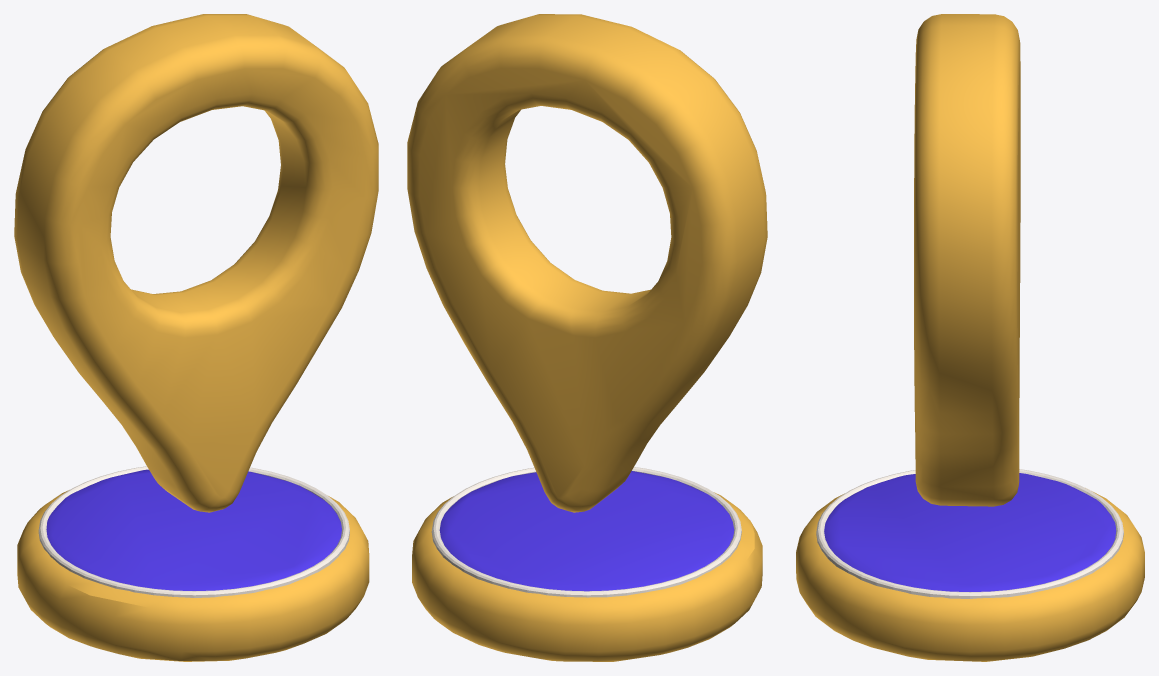
Rendered from HERE_4.glb.
3 views of the same model, side by side, from view 1: azimuth 30°, elevation 25°; view 2: azimuth 150°, elevation 25°; view 3: azimuth 270°, elevation 25° (orthographic).
Visible parts, largest first — view 1: POINT, BASE 3, BASE1, BASE 2; view 2: POINT, BASE 3, BASE1, BASE 2; view 3: POINT, BASE 3, BASE1, BASE 2.
Part boxes in pixels (bbox=[...]): POINT: bbox=[14, 14, 378, 512]; BASE 3: bbox=[46, 469, 341, 590]; BASE1: bbox=[17, 490, 369, 661]; BASE 2: bbox=[38, 466, 349, 597]; POINT: bbox=[407, 14, 767, 512]; BASE 3: bbox=[439, 471, 734, 591]; BASE1: bbox=[412, 492, 762, 661]; BASE 2: bbox=[431, 467, 741, 597]; POINT: bbox=[914, 14, 1020, 506]; BASE 3: bbox=[824, 473, 1116, 591]; BASE1: bbox=[796, 491, 1144, 661]; BASE 2: bbox=[816, 469, 1123, 598].
Bounding box in the file's own units: 2.01 × 3.3 × 1.86.
